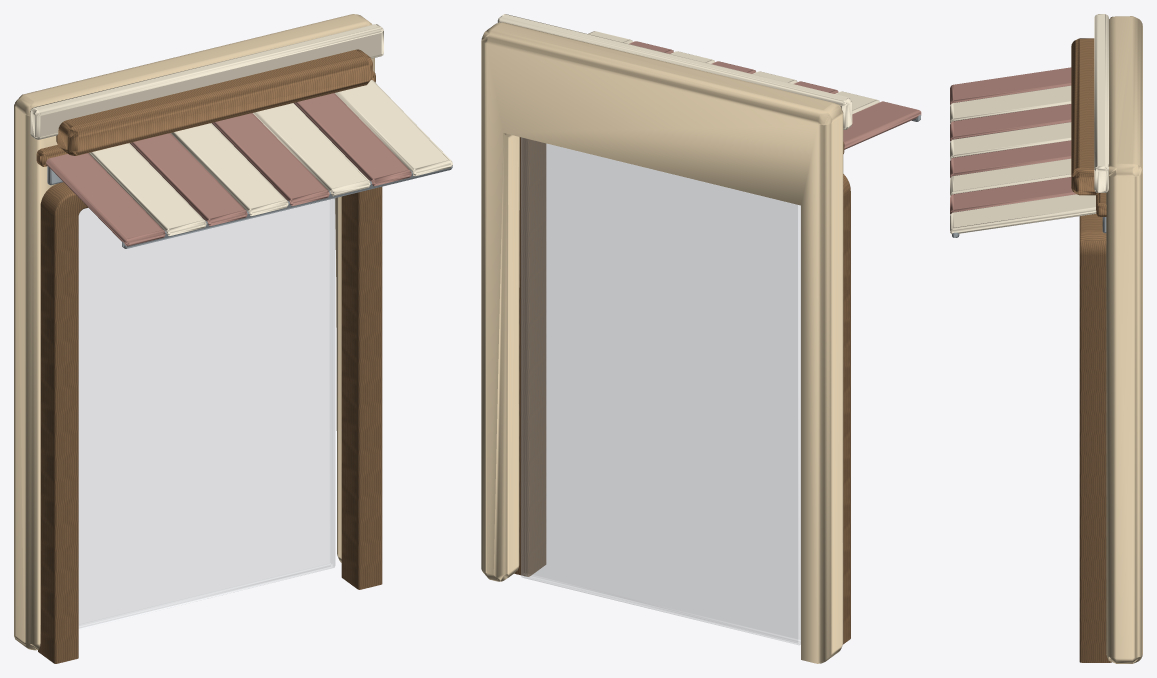
The model's file is Shopfront.glb.
3 renders of one model, left to right at view 1: azimuth 30°, elevation 25°; view 2: azimuth 150°, elevation 25°; view 3: azimuth 270°, elevation 25°, orthographic. The views are drawn at different scales.
Visible parts, largest first — view 1: PBK_glass.001, PBK_Continuous_Frame_Indochine_Shopfront.003, PBK_substrate.001, PBK_signboard.001, PBK_floor_band.001, PBK_awning_stripe.001, PBK_awning_stripe.008, PBK_awning_stripe.002, PBK_awning_stripe.003, PBK_awning_stripe.005, PBK_awning_stripe.006, PBK_awning_stripe.004 (+2 smaller); view 2: PBK_glass.001, PBK_substrate.001, PBK_Continuous_Frame_Indochine_Shopfront.003, PBK_floor_band.001, PBK_awning_stripe.001; view 3: PBK_substrate.001, PBK_Continuous_Frame_Indochine_Shopfront.003, PBK_signboard.001, PBK_awning_stripe.008, PBK_floor_band.001, PBK_awning_stripe.007, PBK_awning_stripe.001, PBK_awning_stripe.002, PBK_awning_stripe.005, PBK_awning_stripe.003, PBK_awning_stripe.004, PBK_awning_stripe.006.
Boxes of the visible parts, box(x1,y1,x2,y2) form: PBK_glass.001: box(79, 198, 335, 629); PBK_Continuous_Frame_Indochine_Shopfront.003: box(38, 182, 382, 663); PBK_substrate.001: box(14, 14, 374, 650); PBK_signboard.001: box(56, 49, 372, 155); PBK_floor_band.001: box(30, 24, 383, 139); PBK_awning_stripe.001: box(46, 153, 165, 246); PBK_awning_stripe.008: box(335, 80, 452, 176); PBK_awning_stripe.002: box(89, 143, 206, 236); PBK_awning_stripe.003: box(130, 133, 247, 226); PBK_awning_stripe.005: box(212, 113, 329, 206); PBK_awning_stripe.006: box(253, 103, 370, 196); PBK_awning_stripe.004: box(171, 123, 288, 216); PBK_glass.001: box(521, 137, 800, 644); PBK_substrate.001: box(481, 22, 843, 663); PBK_Continuous_Frame_Indochine_Shopfront.003: box(514, 137, 850, 644); PBK_floor_band.001: box(497, 14, 852, 129); PBK_awning_stripe.001: box(843, 101, 921, 149); PBK_substrate.001: box(1106, 16, 1142, 663); PBK_Continuous_Frame_Indochine_Shopfront.003: box(1079, 214, 1111, 662); PBK_signboard.001: box(1071, 38, 1100, 195); PBK_awning_stripe.008: box(950, 194, 1096, 234); PBK_floor_band.001: box(1094, 14, 1108, 192); PBK_awning_stripe.007: box(950, 177, 1076, 214); PBK_awning_stripe.001: box(950, 67, 1071, 104); PBK_awning_stripe.002: box(950, 85, 1071, 123); PBK_awning_stripe.005: box(950, 140, 1071, 177); PBK_awning_stripe.003: box(950, 104, 1071, 141); PBK_awning_stripe.004: box(950, 122, 1071, 159); PBK_awning_stripe.006: box(950, 158, 1071, 196).
Bounding box in the file's own units: 2 × 3 × 1.05.
Materials: 7 (2 with a texture image).
